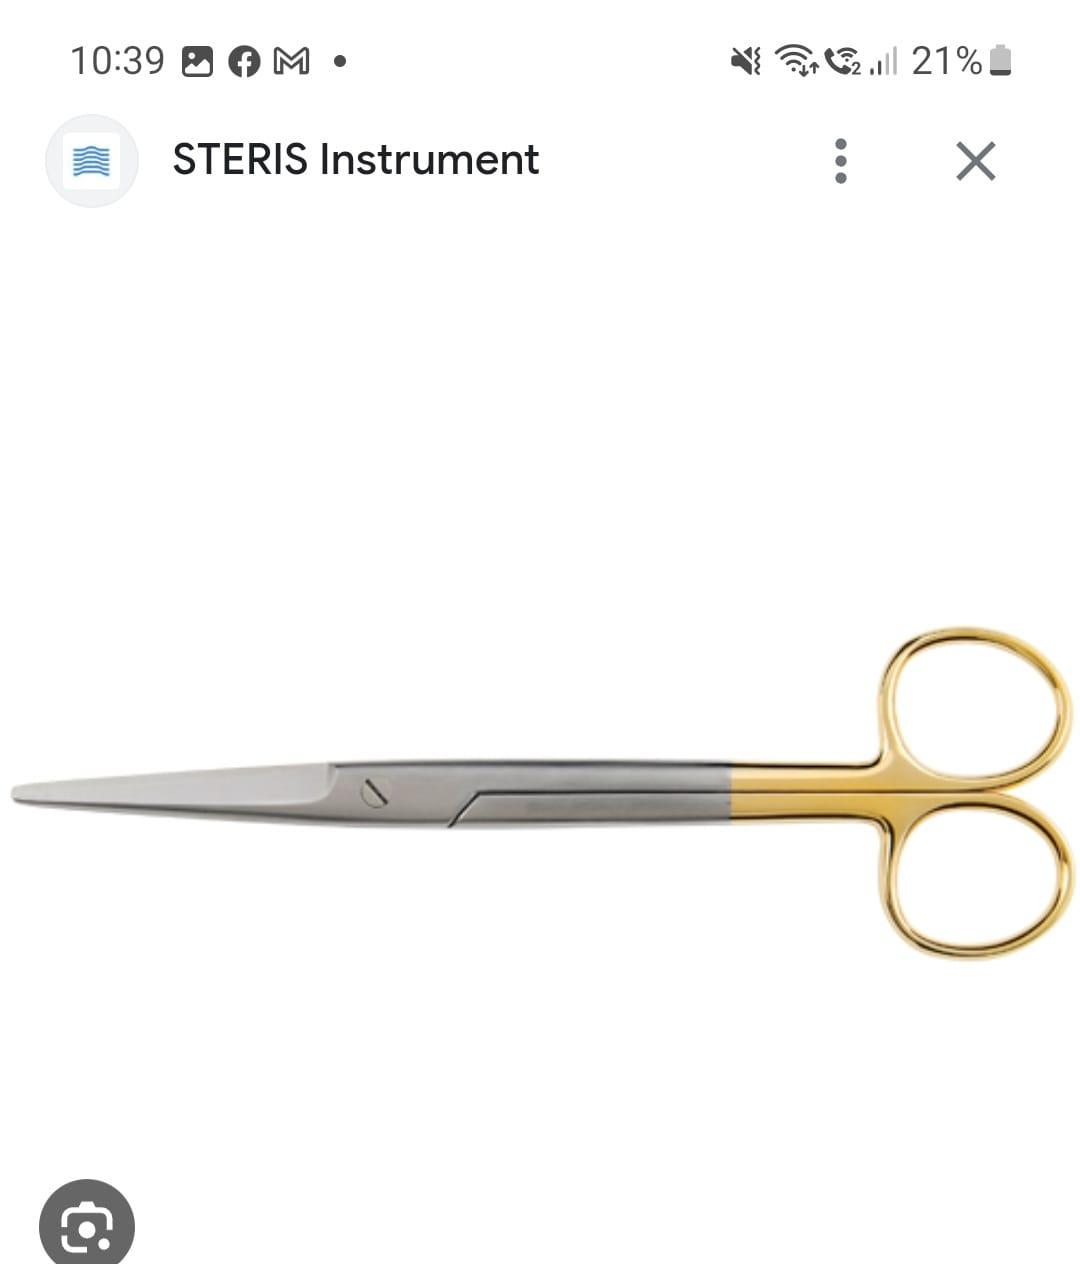Straight Mayo: (8, 608, 1080, 978)
